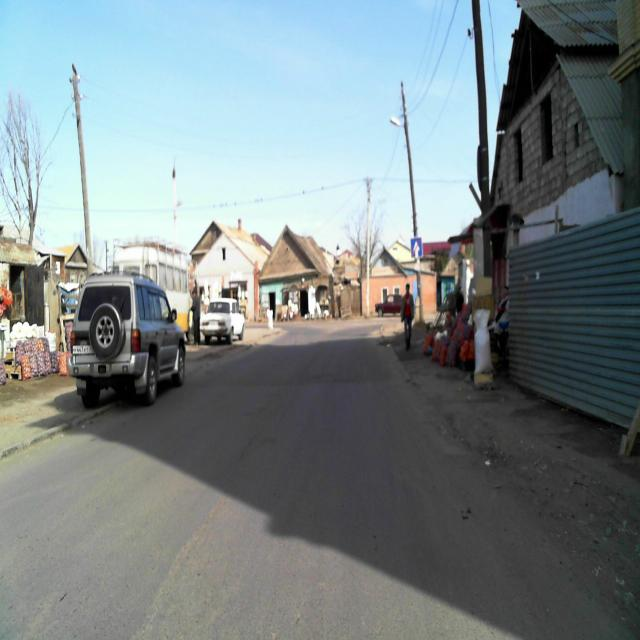road sign: (411, 236, 423, 259)
